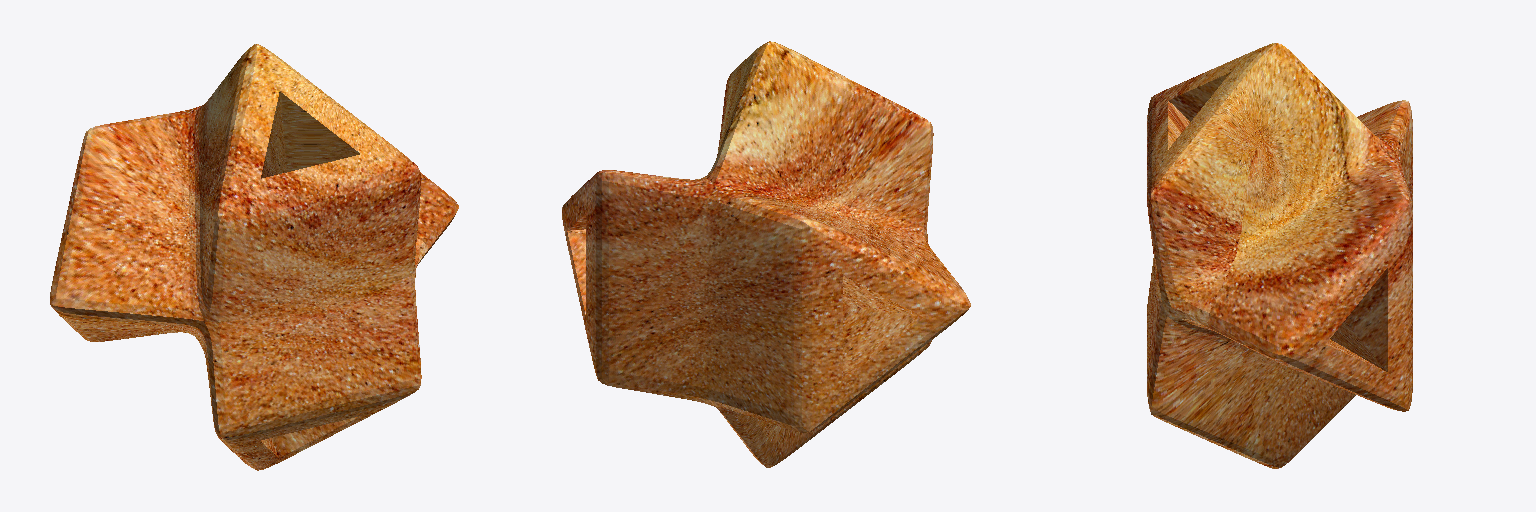
3 renders of one model, left to right at view 1: azimuth 30°, elevation 25°; view 2: azimuth 150°, elevation 25°; view 3: azimuth 270°, elevation 25°, orthographic.
Visible parts, largest first — view 1: Cube.002_Cube.004; view 2: Cube.002_Cube.004; view 3: Cube.002_Cube.004.
Boxes of the visible parts, x1,y1,x2,y2 form: Cube.002_Cube.004: [50, 44, 458, 470]; Cube.002_Cube.004: [562, 41, 970, 467]; Cube.002_Cube.004: [1147, 43, 1412, 468].
Bounding box in the file's own units: 1.88 × 1.88 × 1.07.
1 materials, 1 textured.